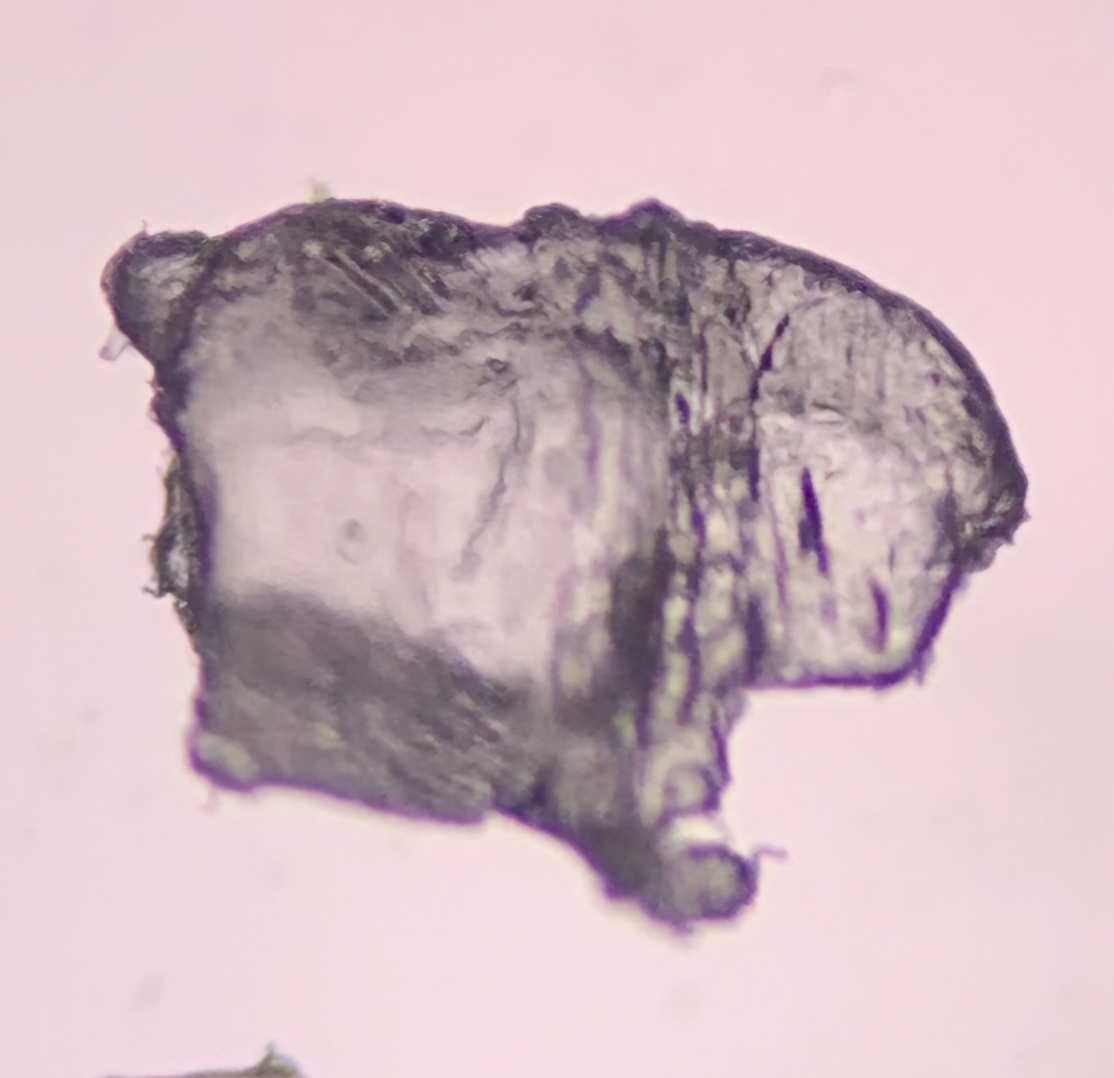microplastic: (70, 190, 1049, 958)
